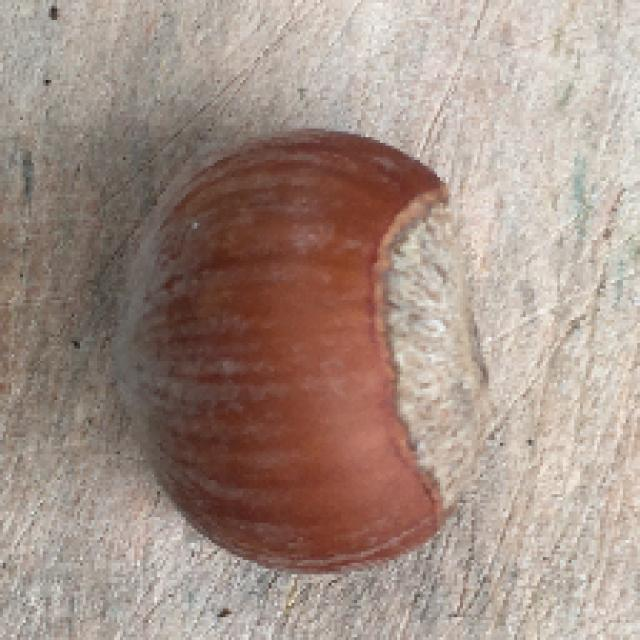qualityHazelnut: (109, 123, 502, 583)
